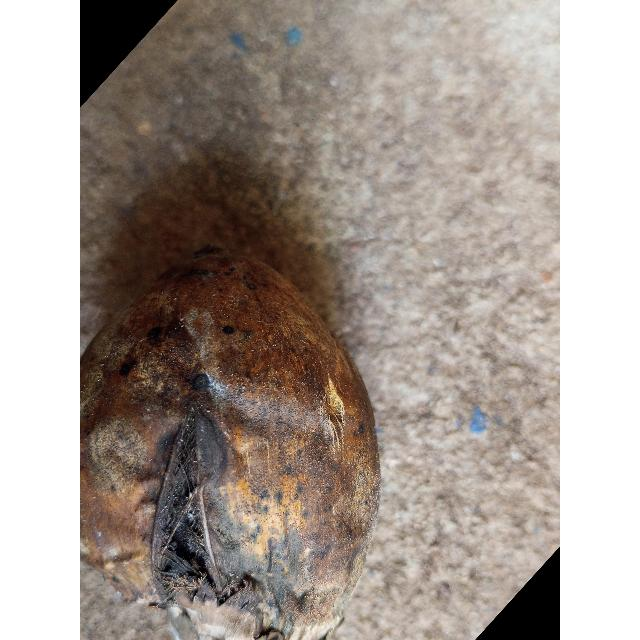damaged: (81, 254, 380, 640)
